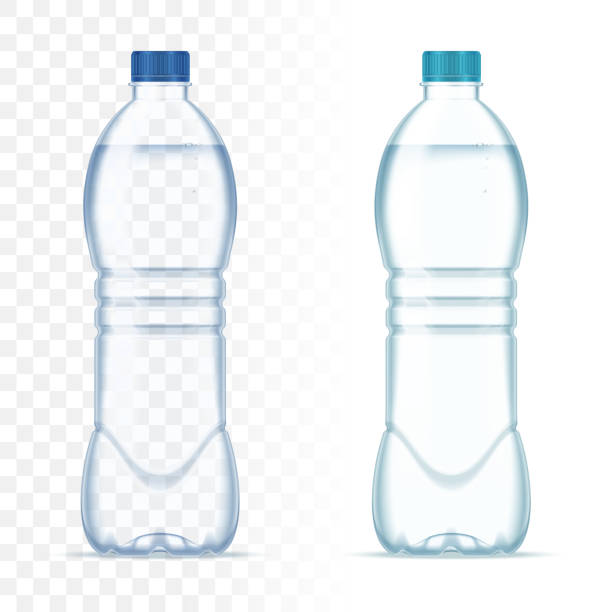HDPE Cap: (130, 50, 190, 75), (422, 52, 481, 77)
HDPE Ring: (131, 75, 189, 82), (423, 76, 480, 81)
PET Bottle: (369, 51, 533, 557), (79, 50, 242, 558)
